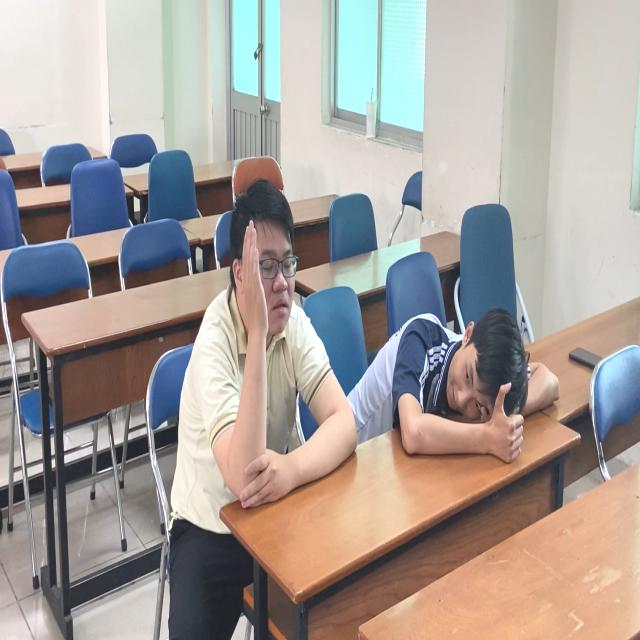raise_hand: (169, 171, 365, 527)
